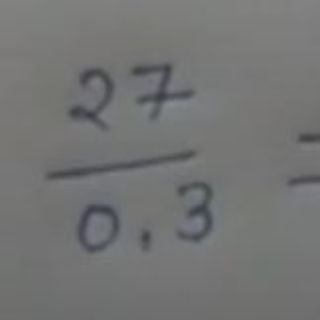.: (137, 227, 153, 250)
0: (74, 200, 122, 256)
2: (66, 64, 116, 133)
3: (175, 180, 214, 244)
7: (129, 61, 196, 123)
